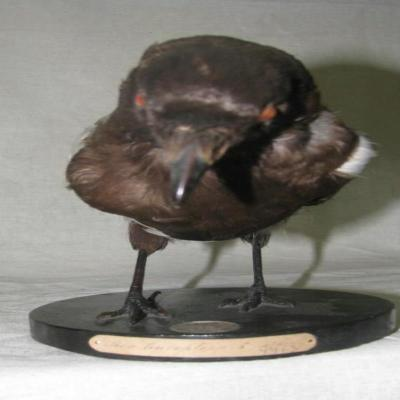natural_science_collection: (65, 36, 377, 336)
